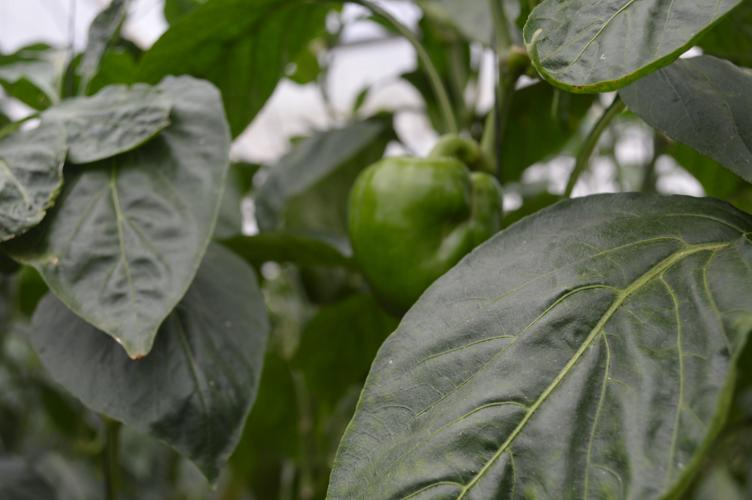BellPepper: (327, 136, 544, 320)
